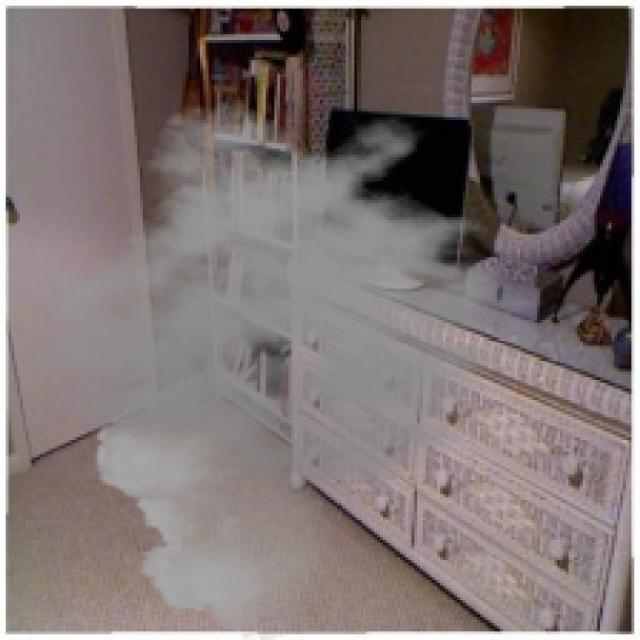Smoke: (26, 100, 572, 637)
